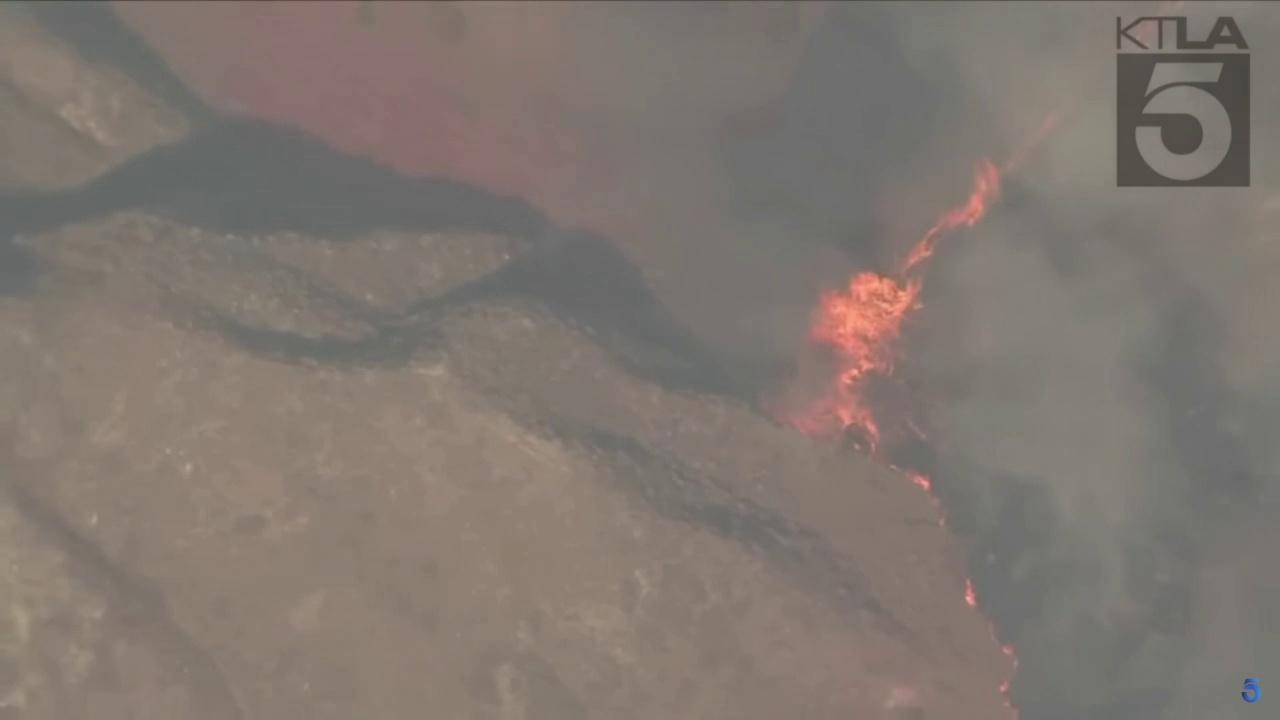fire: (750, 149, 1017, 533), (965, 577, 978, 609), (1002, 644, 1015, 656), (1000, 679, 1010, 693)
smoke: (580, 1, 1280, 720)
